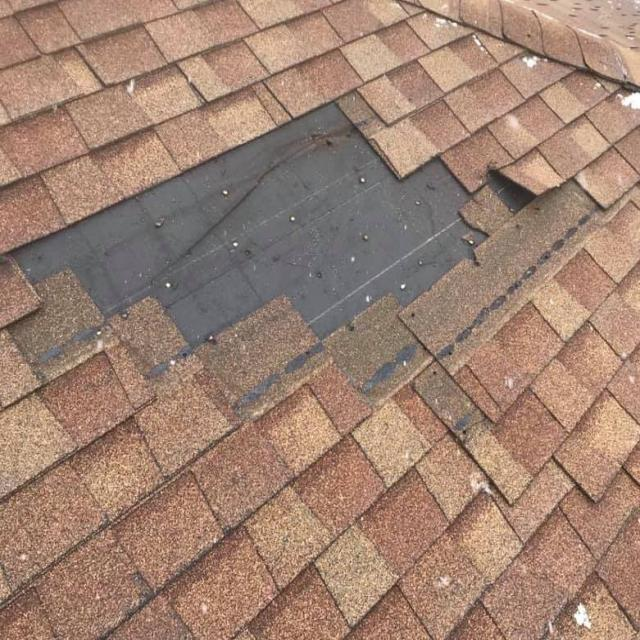damage: (0, 84, 633, 452)
